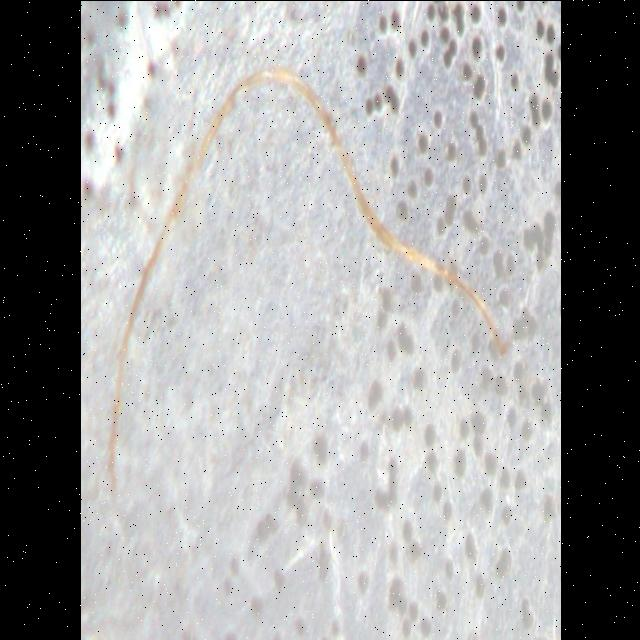Fibre: (104, 62, 510, 500)
